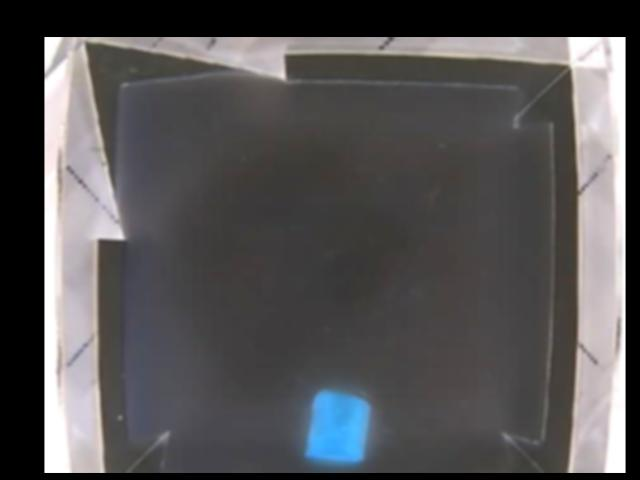Carrot: (305, 389, 372, 461)
